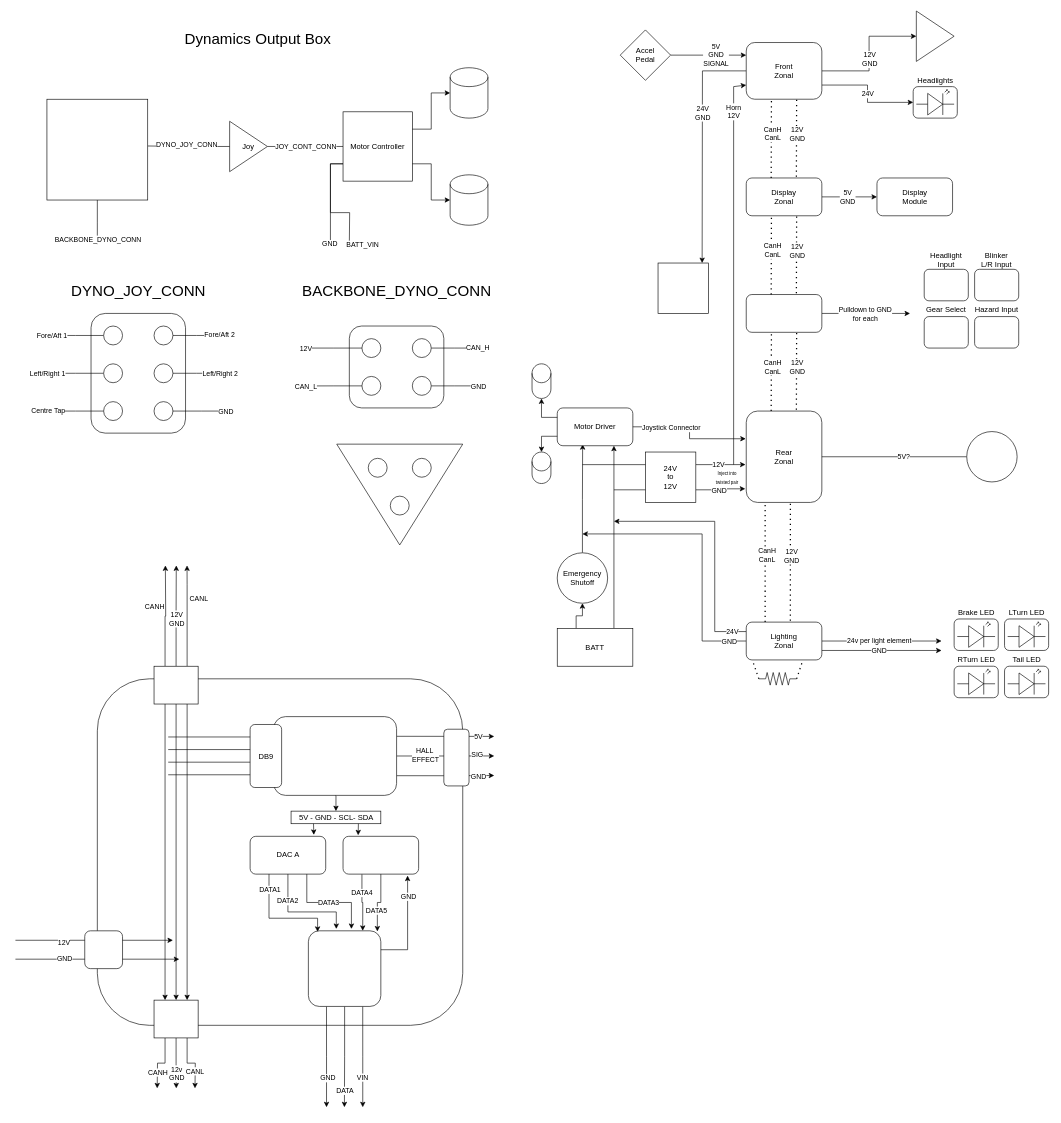
The diagram is 1061 pixels wide and 1123 high, and some of its shapes have lost their labels. The shapes that lost their labels are listed below. From the top down, each one's centre as x and y in pixels, then its label:
At pixel 935 35: "Horn".
At pixel 97 149: "Dynamics Output - Arduino Uno - Can Shield - 2x DAC".
At pixel 682 287: "VBATT".
At pixel 784 313: "Instrument Zonal".
At pixel 991 456: "Speed Sensor".
At pixel 335 755: "Arduino W/ CAN".
At pixel 380 855: "DAC B".
At pixel 344 968: "Original Joystick Module".
